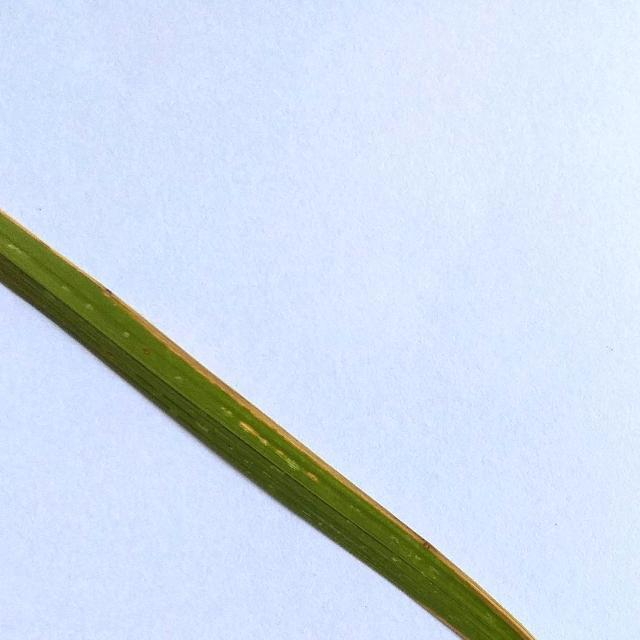Blast: (139, 318, 160, 339), (188, 360, 211, 378), (166, 342, 186, 358), (110, 299, 131, 310)
